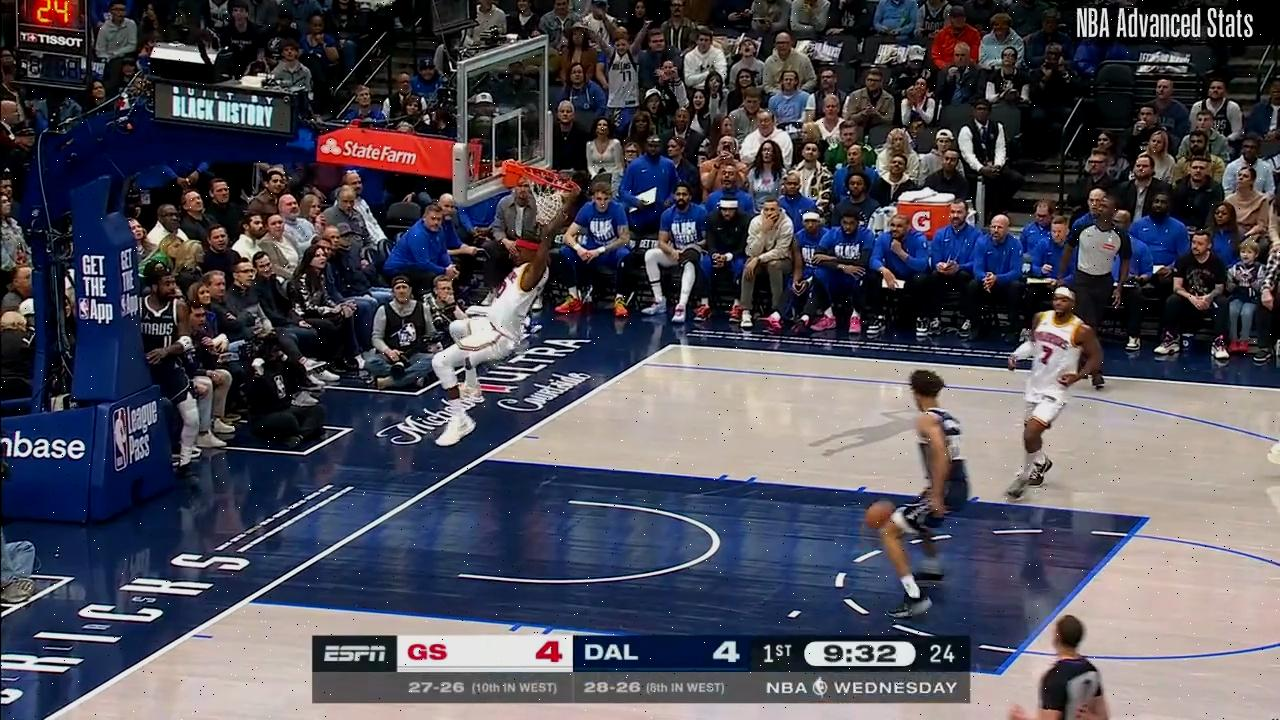basketball: (867, 497, 895, 532)
